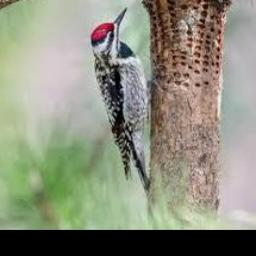Woodpecker: (92, 6, 152, 194)
